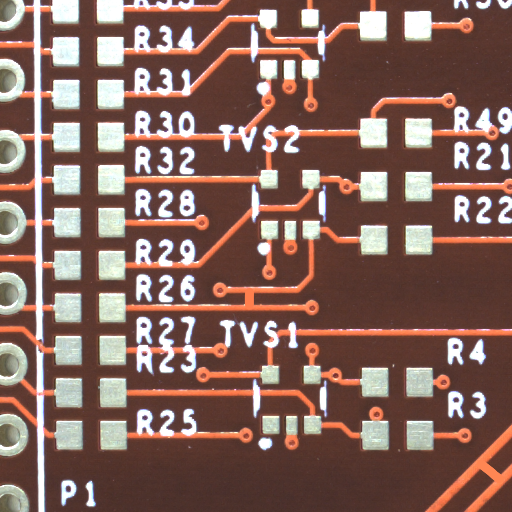Short: (491, 472, 512, 496), (248, 298, 264, 316)
